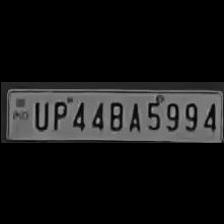4: (68, 97, 86, 131), (200, 98, 218, 132), (87, 98, 105, 130)
5: (142, 97, 160, 131)
9: (162, 97, 180, 130), (182, 98, 198, 132)
A: (124, 98, 142, 132)
B: (105, 97, 124, 130)
P: (48, 97, 68, 131)
U: (28, 96, 48, 130)
